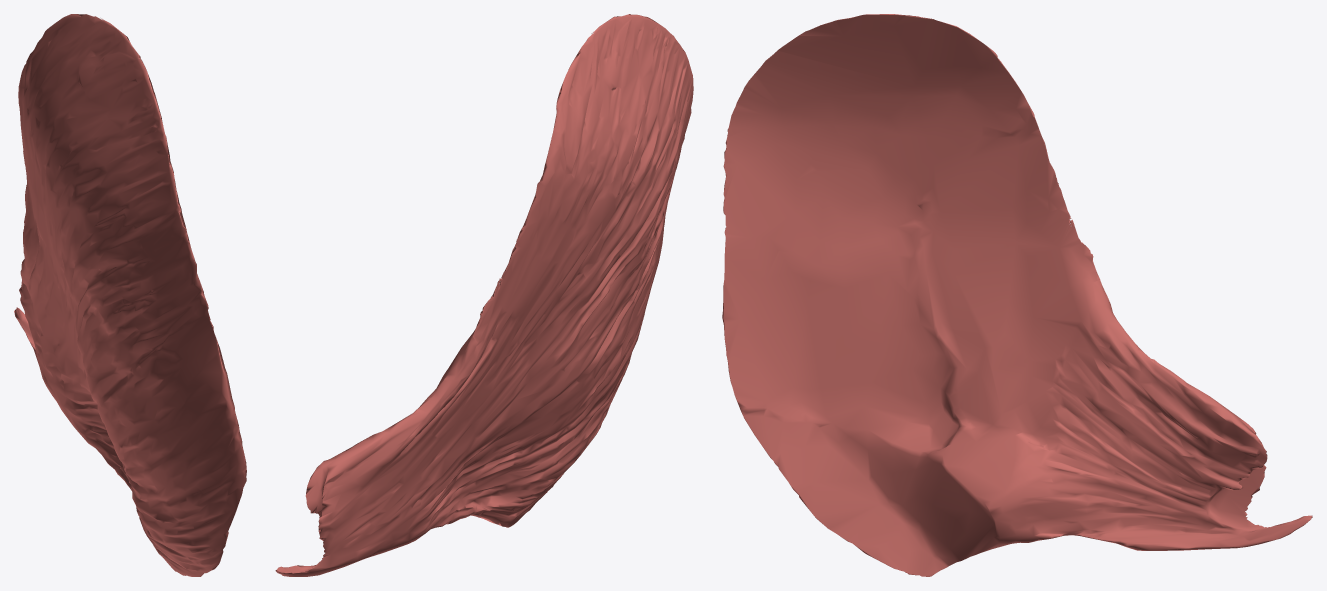
3 views of the same model, side by side, from view 1: azimuth 30°, elevation 25°; view 2: azimuth 150°, elevation 25°; view 3: azimuth 270°, elevation 25° (orthographic). The views are drawn at different scales.
Parts seen in each view (by area): view 1: 右侧颞肌; view 2: 右侧颞肌; view 3: 右侧颞肌.
Part boxes in pixels (x1,y1,x2,y2): 右侧颞肌: [14, 14, 246, 576]; 右侧颞肌: [275, 14, 693, 576]; 右侧颞肌: [722, 14, 1312, 576].
Bounding box in the file's own units: 0.0576 × 0.1678 × 0.1709.
